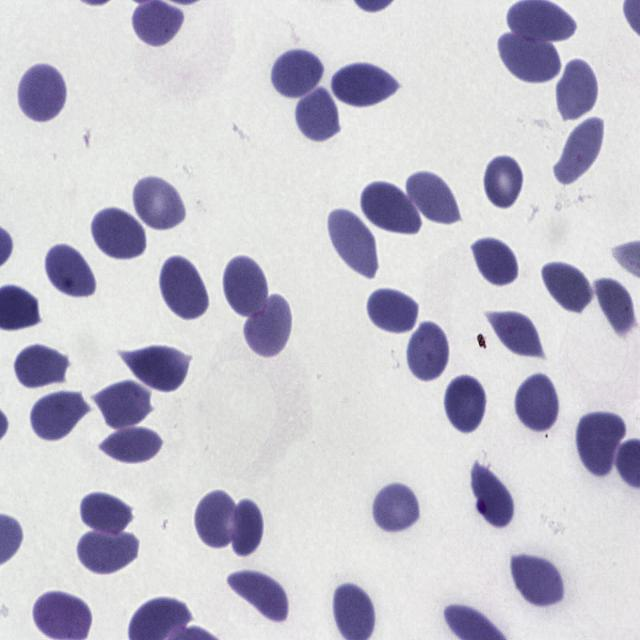red blood cell: (359, 180, 423, 237), (330, 208, 382, 278), (30, 385, 90, 445), (243, 293, 295, 361), (334, 59, 401, 111), (406, 168, 463, 228), (554, 117, 604, 185), (222, 252, 270, 321), (468, 461, 516, 529), (42, 246, 100, 302), (498, 33, 558, 87), (161, 254, 210, 320), (577, 412, 627, 476), (229, 570, 293, 620), (127, 348, 193, 396), (554, 56, 600, 124), (12, 341, 72, 393), (270, 47, 326, 102), (404, 318, 450, 384), (541, 259, 594, 316), (291, 89, 343, 147), (131, 175, 185, 230), (19, 66, 70, 124), (366, 283, 421, 336), (98, 423, 164, 467), (95, 379, 155, 427), (80, 524, 138, 572), (444, 372, 488, 434), (90, 210, 146, 258), (487, 310, 543, 358), (511, 555, 563, 606), (516, 376, 560, 434), (594, 276, 635, 338), (371, 482, 421, 532), (482, 153, 525, 211), (195, 490, 237, 548), (134, 0, 184, 48), (80, 492, 132, 536), (474, 237, 518, 286), (231, 501, 266, 557)
